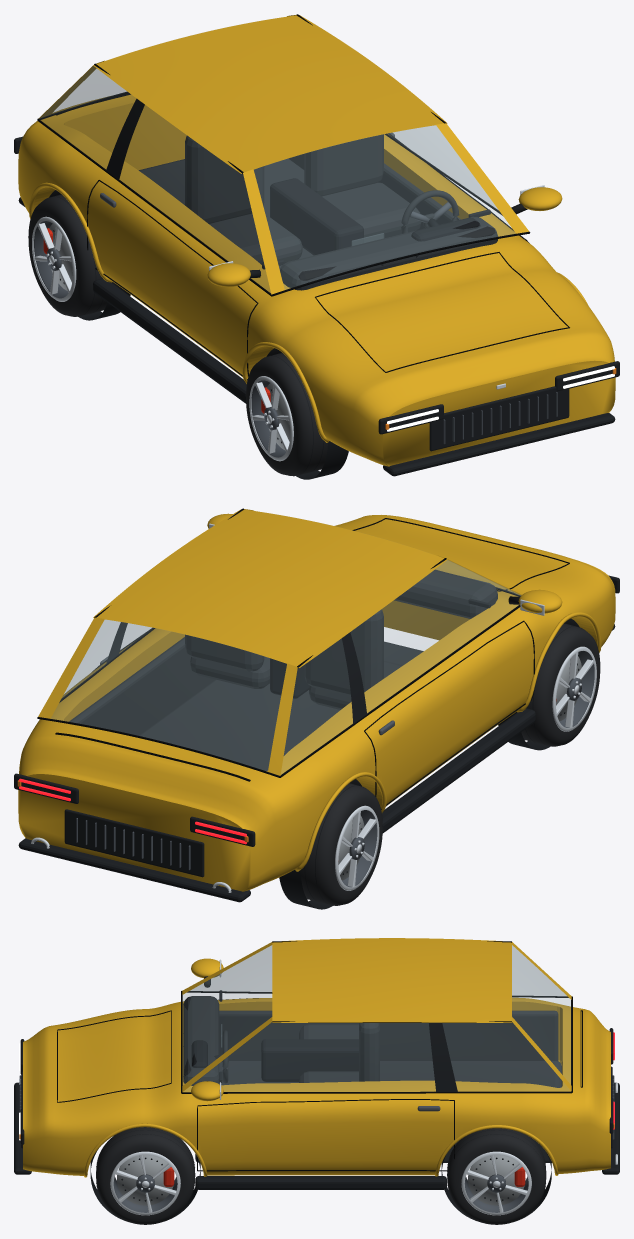
The model's file is sprint.glb.
3 renders of one model, top to bottom at view 1: azimuth 30°, elevation 25°; view 2: azimuth 150°, elevation 25°; view 3: azimuth 270°, elevation 25°, orthographic. The views are drawn at different scales.
Visible parts, largest first — view 1: Sculpted body shell.007, Painted roof.007, Windshield.007, Side glass.014, Interior dashboard.007, Front grille housing.007, Interior centre console.007, Tire.030, Interior seat back.020, Tire.028, Interior seat back.021, Rocker aero sill.014 (+29 smaller); view 2: Sculpted body shell.007, Painted roof.007, Rear glass.007, Side glass.014, Interior cabin floor.007, Interior door card.015, Rear diffuser grille.007, Tire.028, Tire.030, Interior seat back.020, Rocker aero sill.014, Interior dashboard.007 (+25 smaller); view 3: Sculpted body shell.007, Side glass.015, Painted roof.007, Interior door card.014, Windshield.007, Rear glass.007, Tire.031, Interior cabin floor.007, Tire.029, Interior centre console.007, Rocker aero sill.015, Side glass.014 (+25 smaller).
Boxes of the visible parts, bbox=[...] form: Sculpted body shell.007: bbox=[18, 94, 615, 466]; Painted roof.007: bbox=[101, 16, 438, 170]; Windshield.007: bbox=[254, 125, 515, 289]; Side glass.014: bbox=[39, 66, 270, 292]; Interior dashboard.007: bbox=[280, 216, 497, 290]; Front grille housing.007: bbox=[429, 386, 569, 451]; Interior centre console.007: bbox=[270, 178, 363, 255]; Tire.030: bbox=[246, 353, 327, 475]; Interior seat back.020: bbox=[185, 135, 264, 223]; Tire.028: bbox=[28, 194, 107, 316]; Interior seat back.021: bbox=[304, 134, 383, 196]; Rocker aero sill.014: bbox=[93, 278, 246, 403]; Sculpted body shell.007: bbox=[18, 515, 615, 891]; Painted roof.007: bbox=[102, 510, 439, 664]; Rear glass.007: bbox=[51, 620, 286, 771]; Side glass.014: bbox=[281, 560, 520, 774]; Interior cabin floor.007: bbox=[139, 641, 423, 770]; Interior door card.015: bbox=[69, 637, 215, 735]; Rear diffuser grille.007: bbox=[64, 809, 204, 877]; Tire.028: bbox=[300, 783, 382, 905]; Tire.030: bbox=[521, 624, 600, 746]; Interior seat back.020: bbox=[304, 609, 383, 696]; Rocker aero sill.014: bbox=[382, 708, 535, 833]; Interior dashboard.007: bbox=[394, 570, 497, 618]; Sculpted body shell.007: bbox=[23, 997, 610, 1175]; Side glass.015: bbox=[184, 1023, 570, 1091]; Painted roof.007: bbox=[272, 938, 511, 1021]; Interior door card.014: bbox=[219, 1010, 558, 1061]; Windshield.007: bbox=[183, 946, 271, 1084]; Rear glass.007: bbox=[512, 945, 570, 1083]; Tire.031: bbox=[96, 1127, 195, 1224]; Interior cabin floor.007: bbox=[219, 1061, 561, 1087]; Tire.029: bbox=[447, 1128, 546, 1224]; Interior centre console.007: bbox=[261, 1039, 358, 1081]; Rocker aero sill.015: bbox=[195, 1176, 446, 1189]; Side glass.014: bbox=[191, 946, 565, 995].
Bounding box in the file's own units: 2.17 × 1.45 × 4.03.
